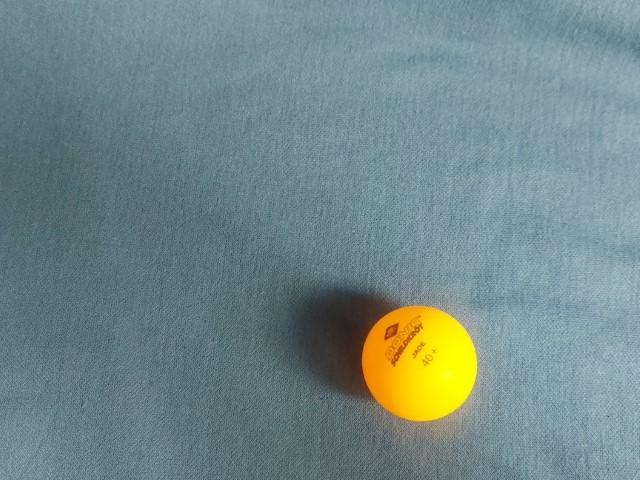oball: (158, 55, 284, 178)
